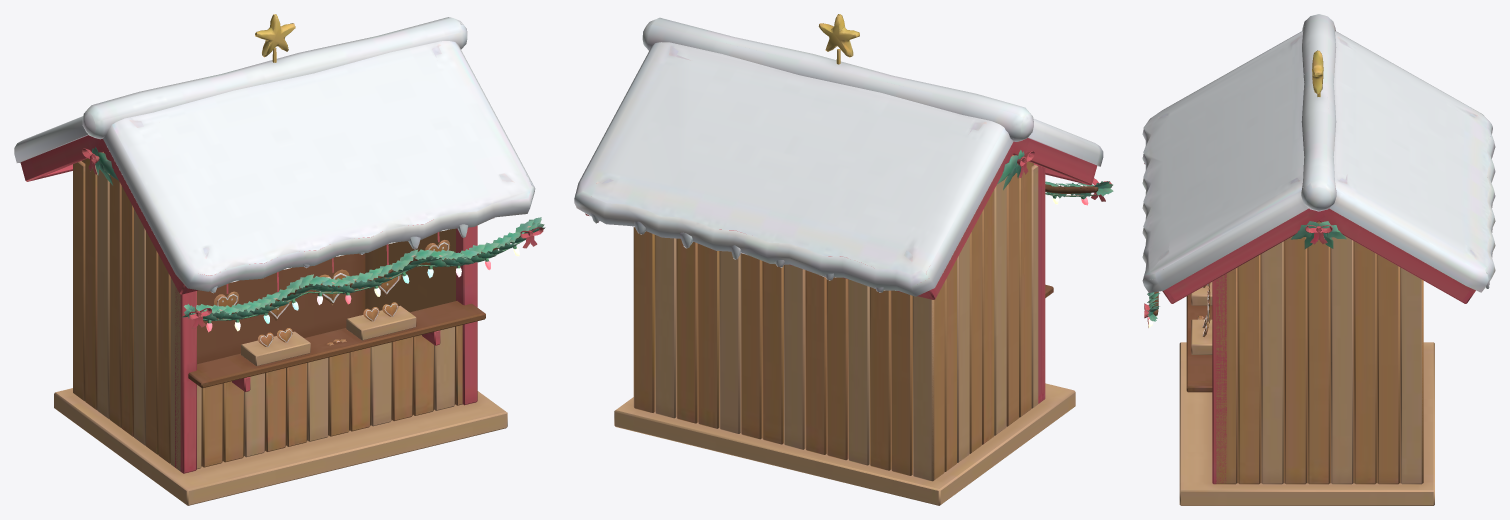
File: puesto_navidad.glb
The picture shows the model from 3 angles, left to right: view 1: azimuth 30°, elevation 25°; view 2: azimuth 150°, elevation 25°; view 3: azimuth 270°, elevation 25°; orthographic projection. The views are drawn at different scales.
Parts seen in each view (by area): view 1: christmas-market-stall_body; view 2: christmas-market-stall_body; view 3: christmas-market-stall_body.
Boxes of the visible parts, x1,y1,x2,y2 form: christmas-market-stall_body: (14,14,545,505); christmas-market-stall_body: (574,14,1113,505); christmas-market-stall_body: (1142,14,1495,505).
Bounding box in the file's own units: 3.61 × 3.62 × 3.04.
6 materials, 1 textured.
